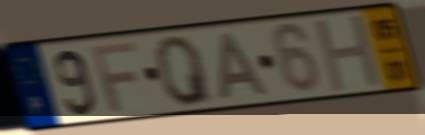6: (269, 19, 326, 98)
9: (54, 48, 97, 117)
A: (218, 30, 271, 103)
F: (88, 40, 139, 114)
H: (311, 12, 386, 96)
Q: (152, 33, 218, 109)
